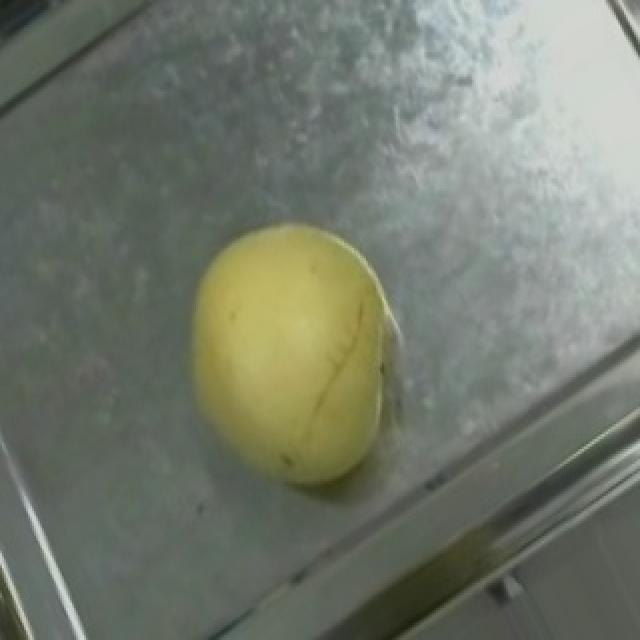Fruit: (138, 186, 454, 533)
